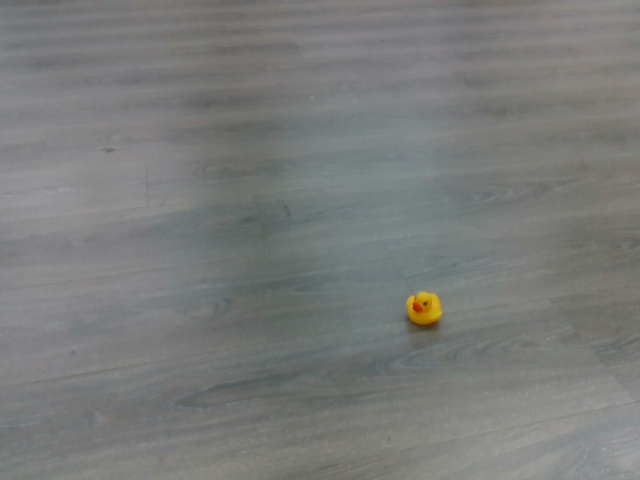duck: (402, 289, 446, 326)
